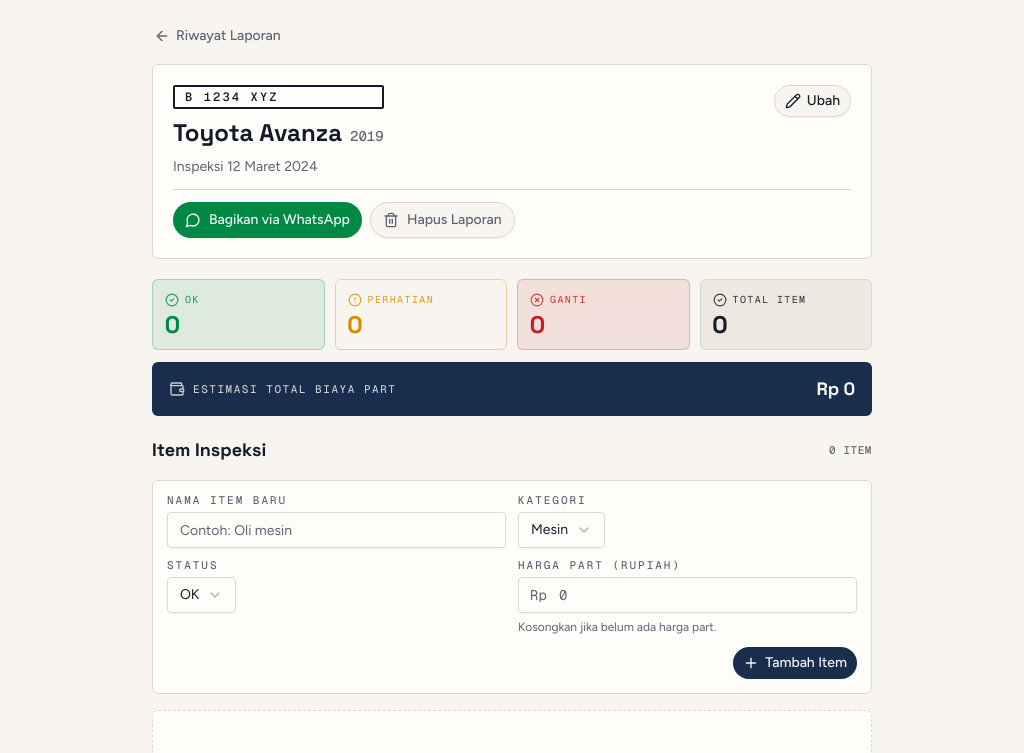
Test: ReportDetailPage › requires an item name before adding
Click the button with test id "report.add_item_button": (795, 663) [733,647,857,679]
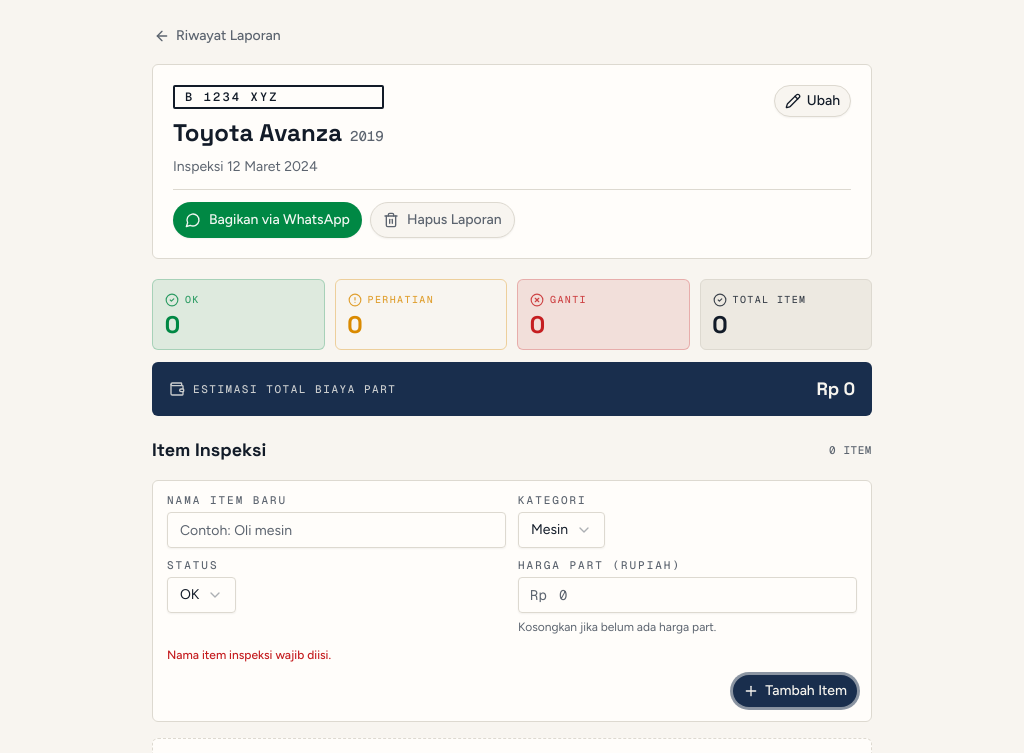
Result: the text with test id "report.new_item_error" reads "Nama item inspeksi wajib diisi." at [167,648,331,662]
